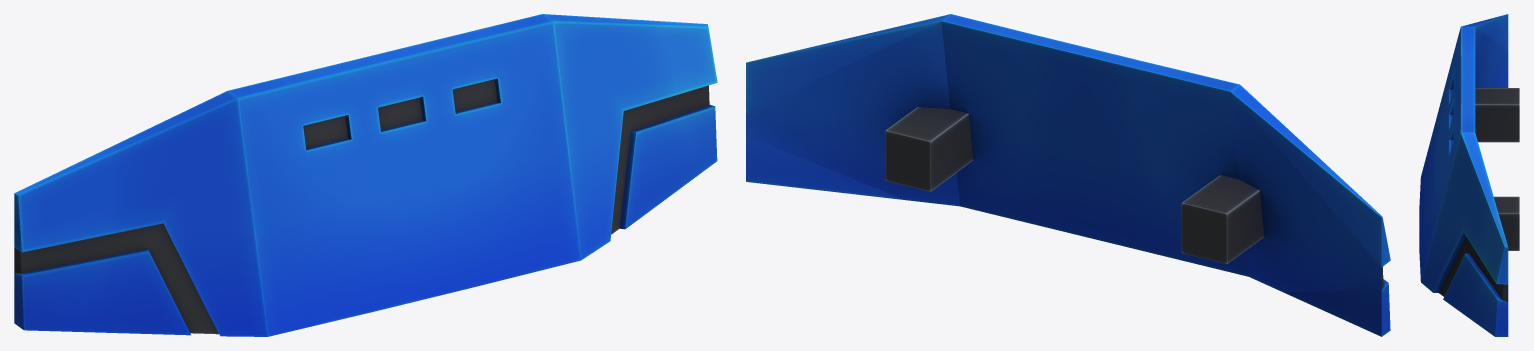
The model's file is front_shields_arena_1.fbx.
3 views of the same model, side by side, from view 1: azimuth 30°, elevation 25°; view 2: azimuth 150°, elevation 25°; view 3: azimuth 270°, elevation 25° (orthographic). The views are drawn at different scales.
Visible parts, largest first — view 1: Cube.098; view 2: Cube.098; view 3: Cube.098.
Boxes of the visible parts, <box> form: Cube.098: <box>14,14,717,336</box>; Cube.098: <box>746,14,1390,336</box>; Cube.098: <box>1419,14,1519,336</box>.
Size of the model in its own units: 201 by 60.19 by 36.6.
